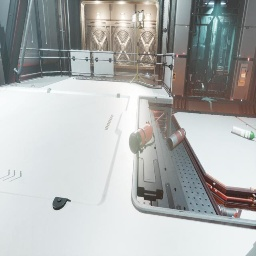0: (232, 125, 256, 140)
EmergencyPhone ,: (172, 70, 176, 80)
FireExtinguisher ]: (129, 121, 155, 154)
NitrogenTank ,: (167, 128, 186, 150)
SafetySwitchPanel ,: (236, 63, 249, 86)
